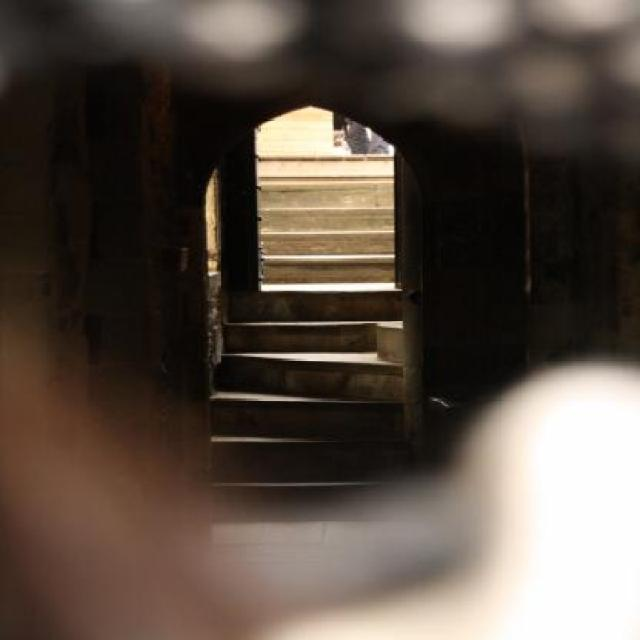stair: (210, 120, 408, 526)
